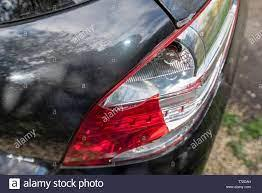Taillight-Damage: (57, 9, 233, 173)
